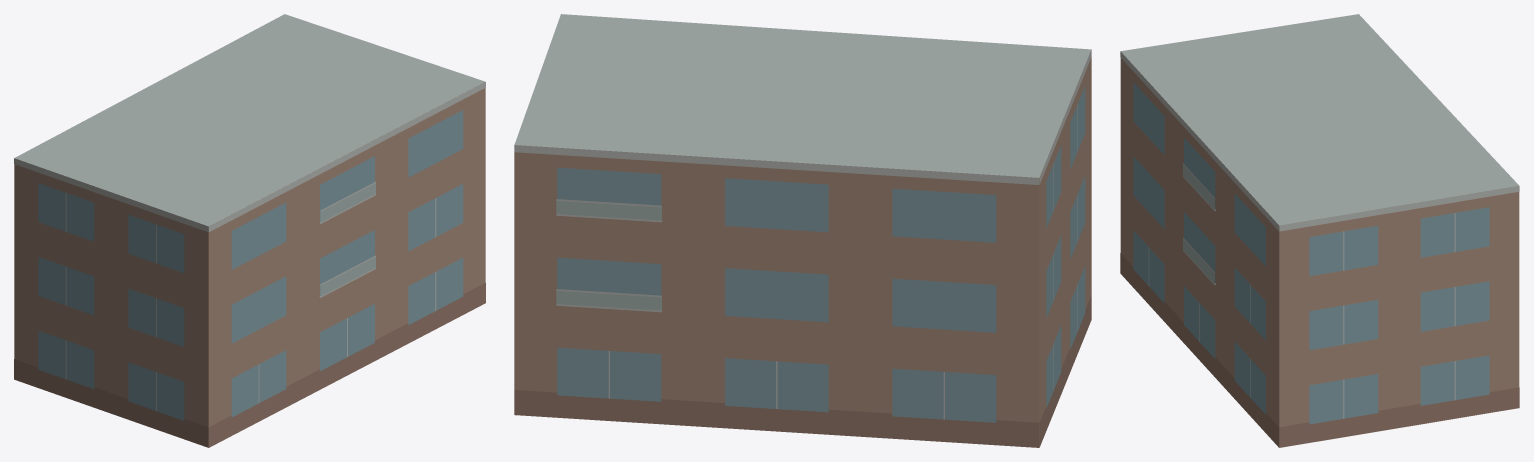
The model's file is survey-upis-32698431.glb.
3 renders of one model, left to right at view 1: azimuth 30°, elevation 25°; view 2: azimuth 150°, elevation 25°; view 3: azimuth 270°, elevation 25°, orthographic. The views are drawn at different scales.
Parts seen in each view (by area): view 1: survey-upis-32698431.tmp; view 2: survey-upis-32698431.tmp; view 3: survey-upis-32698431.tmp.
Boxes of the visible parts, x1=… form: survey-upis-32698431.tmp: x1=14, y1=14, x2=485, y2=447; survey-upis-32698431.tmp: x1=514, y1=14, x2=1091, y2=447; survey-upis-32698431.tmp: x1=1120, y1=14, x2=1519, y2=447.
Bounding box in the file's own units: 18.69 × 9.15 × 14.9.
